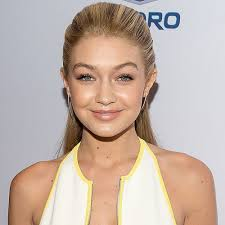mole: (95, 144, 102, 151)
